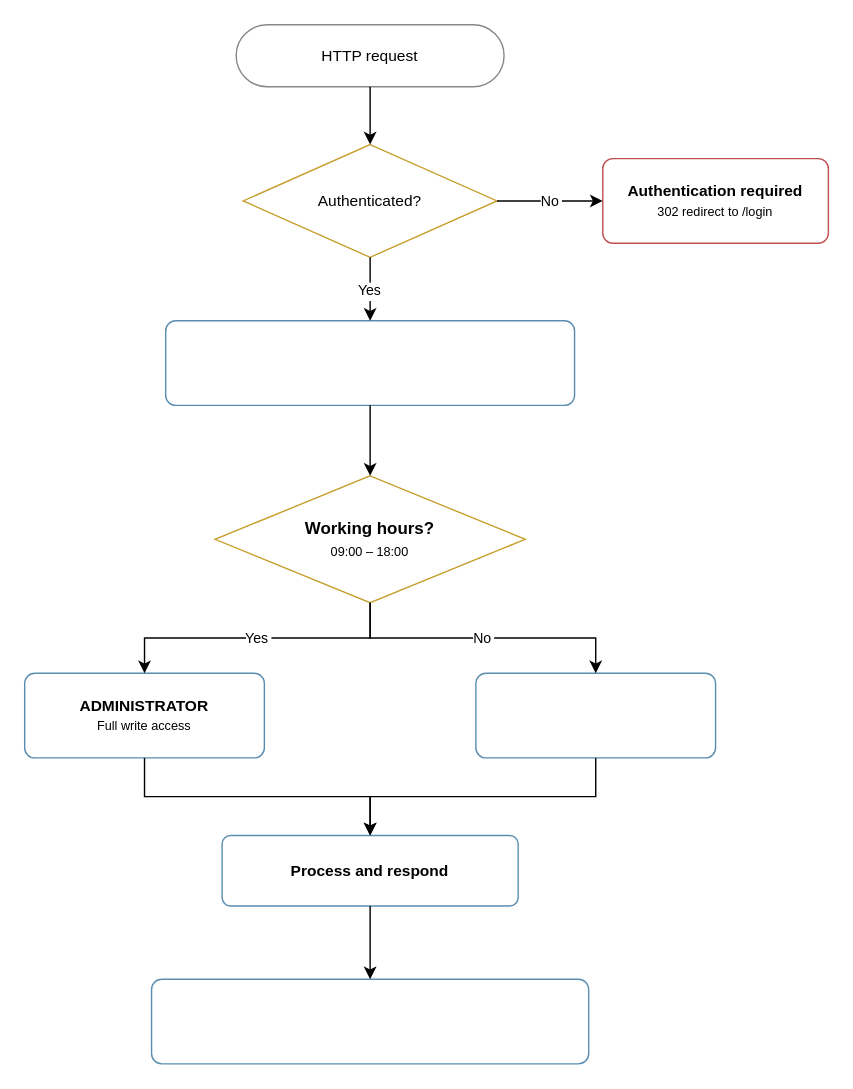
The diagram is 853 pixels wide and 1089 high, and some of its shapes have lost their labels. Each missing label, with the centre of its shape:
"Per-request temporal filter TrbacPerRequestFilter — protected request path" goes at point 369,362.
"Restore original auth finally block — no session downgrade" goes at point 369,1021.
"VIEWER Read-only (this request)" goes at point 595,715.
